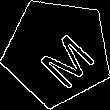M_NW: (24, 18, 91, 86)
